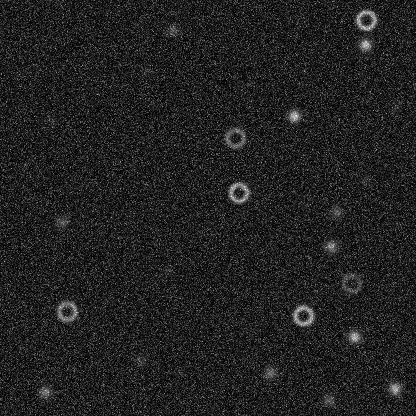Ring: (339, 271, 363, 295), (223, 125, 247, 149), (226, 180, 250, 204), (54, 299, 78, 323), (354, 7, 378, 31), (291, 303, 315, 327)
Spot: (36, 384, 52, 400), (262, 364, 278, 380), (53, 214, 69, 230), (357, 36, 373, 52), (346, 328, 362, 344), (158, 262, 174, 278), (286, 107, 302, 123), (328, 204, 344, 220), (164, 22, 180, 38), (357, 172, 373, 188), (137, 65, 153, 81), (386, 380, 402, 396), (42, 113, 58, 129), (322, 238, 338, 254), (320, 392, 336, 408), (386, 100, 402, 116), (132, 351, 148, 367)
